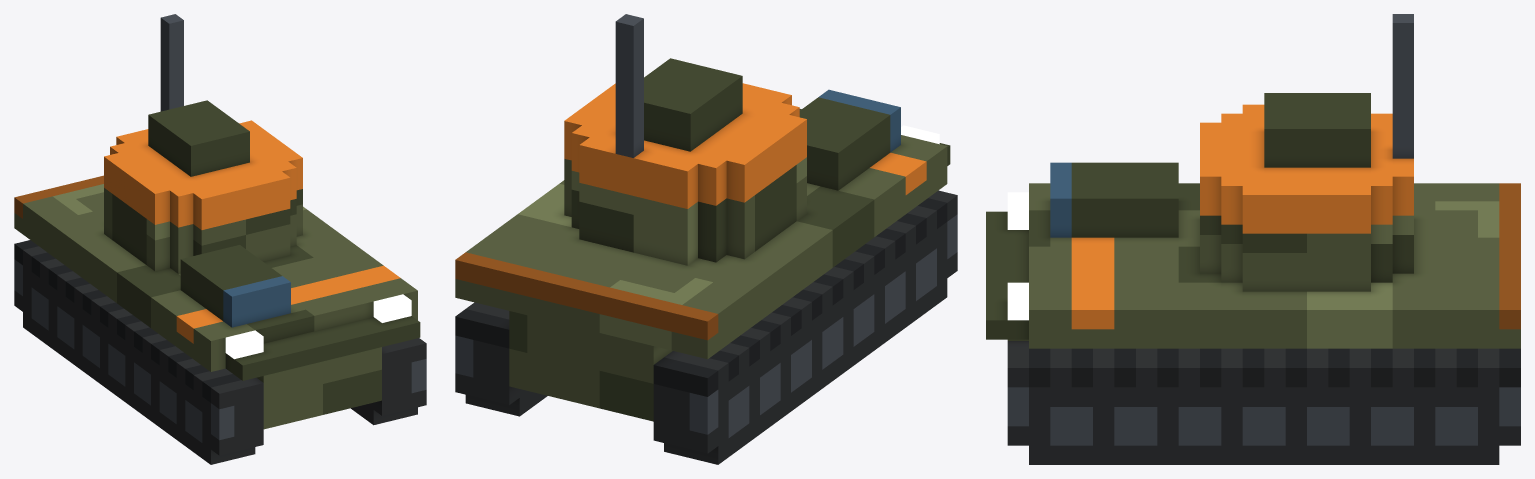
3 views of the same model, side by side, from view 1: azimuth 30°, elevation 25°; view 2: azimuth 150°, elevation 25°; view 3: azimuth 270°, elevation 25° (orthographic). The views are drawn at different scales.
Parts seen in each view (by area): view 1: cm_aa_h_5_body; view 2: cm_aa_h_5_body; view 3: cm_aa_h_5_body.
Part boxes in pixels (x1,y1,x2,y2): cm_aa_h_5_body: [14, 14, 426, 464]; cm_aa_h_5_body: [455, 14, 957, 464]; cm_aa_h_5_body: [986, 14, 1520, 464].
Size of the model in its own units: 0.875 by 1.25 by 1.56.
1 material, 1 textured.
